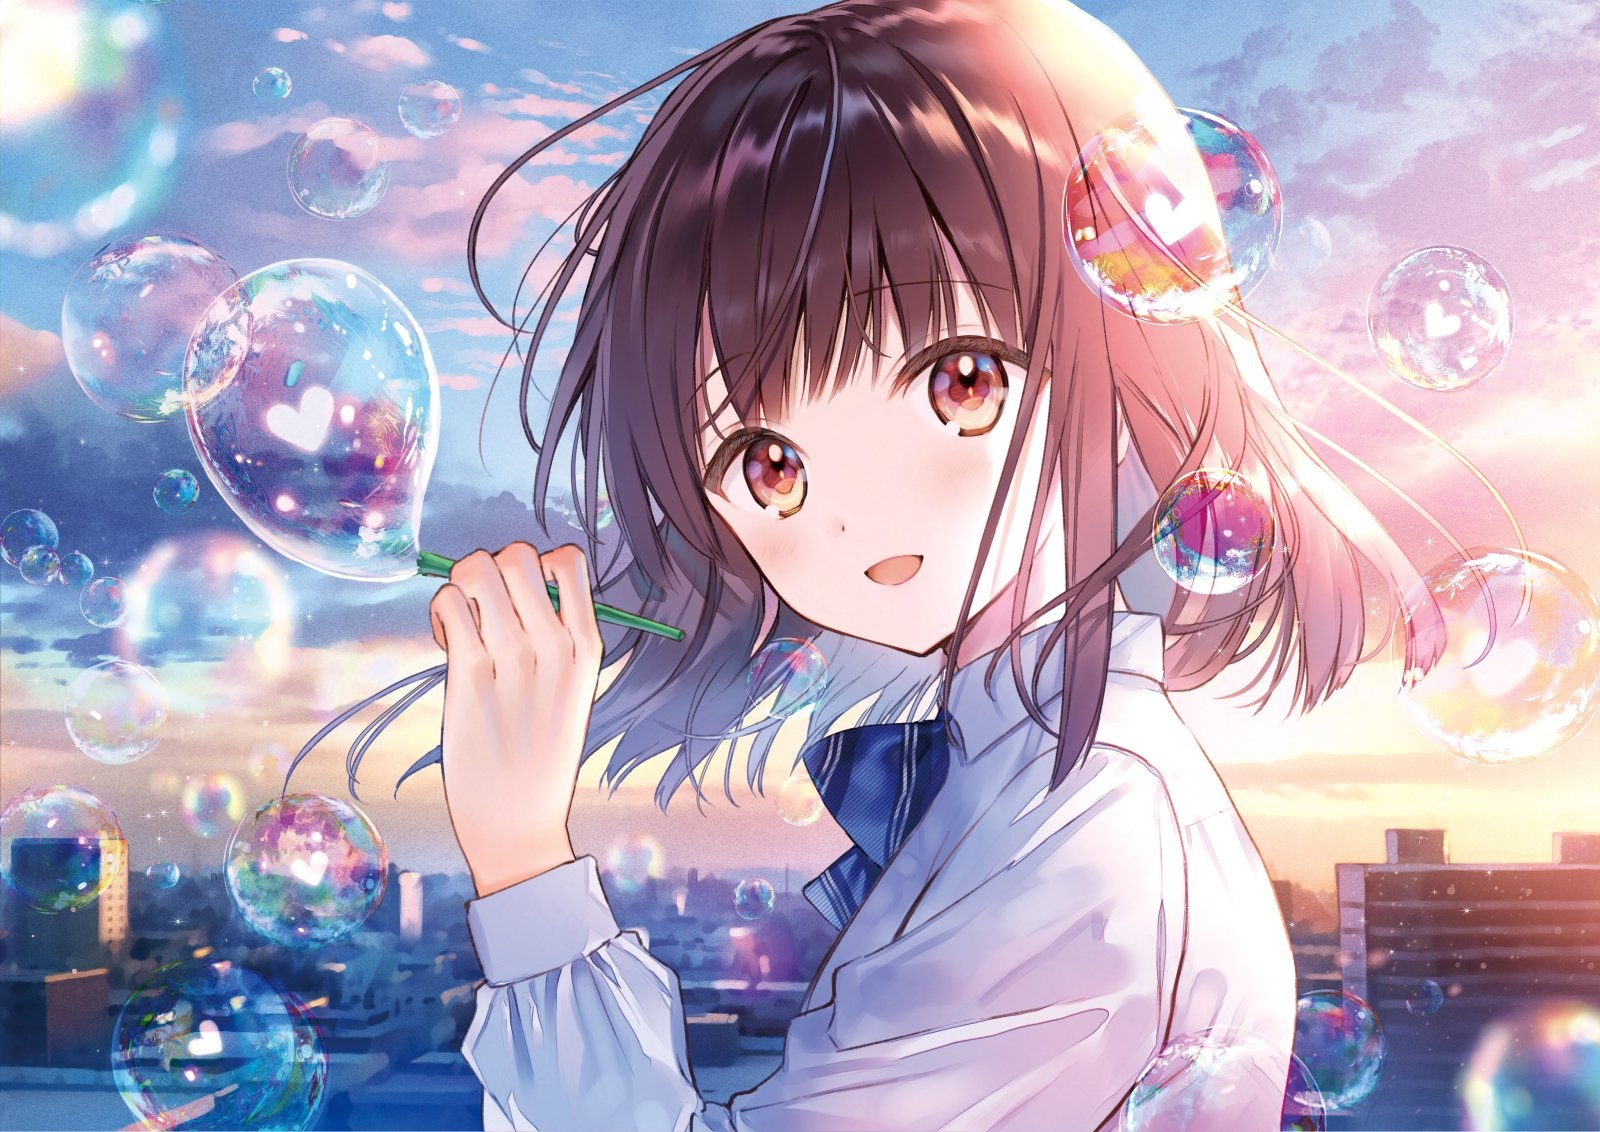纸片人正脸: (550, 0, 1231, 661)
